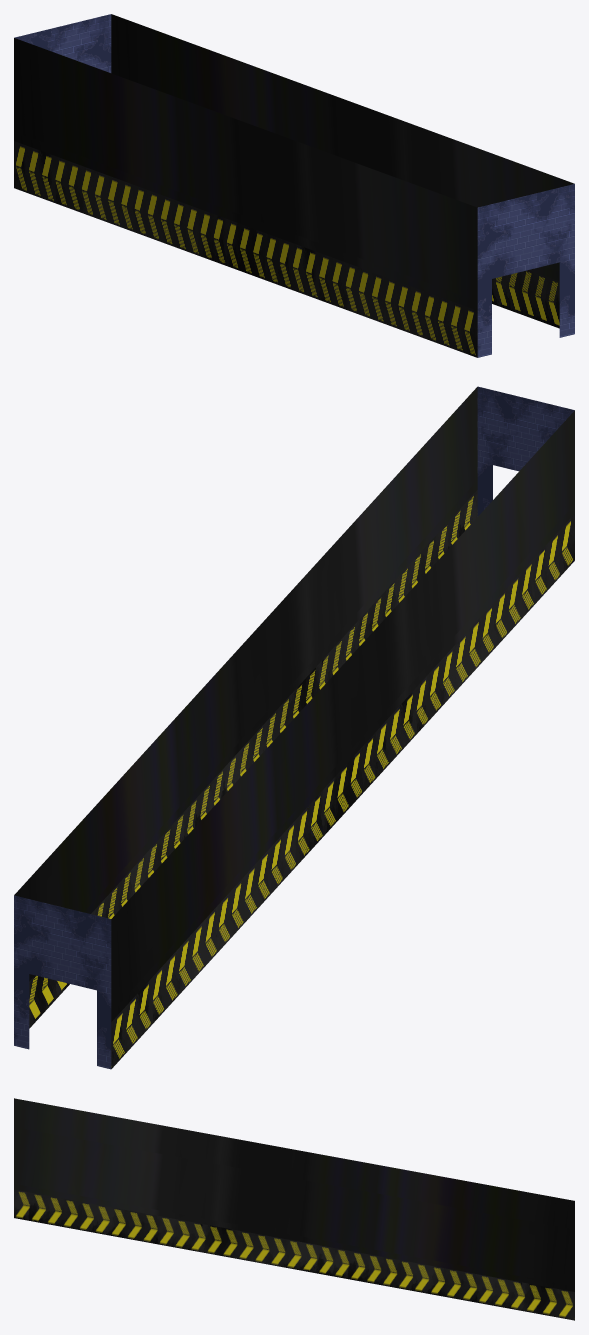
File: Wall_M.fbx
3 renders of one model, top to bottom at view 1: azimuth 30°, elevation 25°; view 2: azimuth 150°, elevation 25°; view 3: azimuth 270°, elevation 25°, orthographic. The views are drawn at different scales.
Visible parts, largest first — view 1: Wall_forAr; view 2: Wall_forAr; view 3: Wall_forAr.
Part boxes in pixels (bbox=[...]): Wall_forAr: bbox=[14, 14, 574, 357]; Wall_forAr: bbox=[14, 386, 574, 1069]; Wall_forAr: bbox=[14, 1098, 574, 1320].
Size of the model in its own units: 9.3 by 29.2 by 76.71.
Materials: 2 (2 with a texture image).
